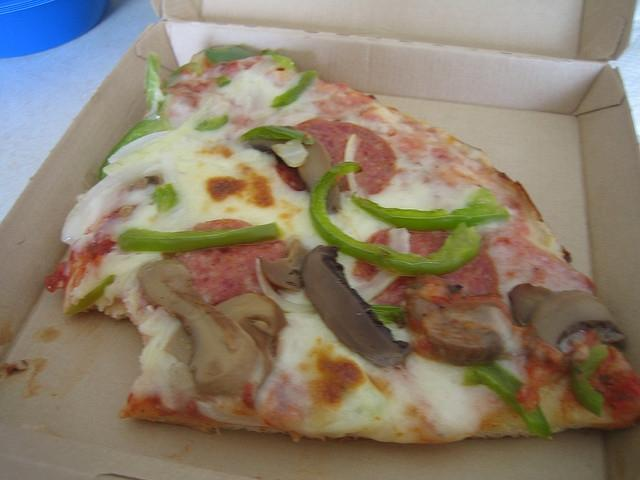bell pepper: (370, 304, 553, 440), (309, 161, 482, 276), (351, 187, 510, 231), (118, 222, 282, 253), (98, 117, 172, 180), (570, 346, 609, 418), (66, 274, 116, 316), (270, 70, 318, 108), (238, 125, 314, 144), (203, 44, 260, 64), (144, 53, 162, 110), (152, 184, 180, 214), (260, 50, 298, 72), (194, 114, 228, 131), (216, 75, 232, 88)
mushroom: (138, 260, 270, 396), (302, 245, 414, 369), (164, 294, 288, 364), (508, 283, 627, 351), (413, 296, 504, 368), (244, 138, 331, 190), (258, 239, 308, 292)
